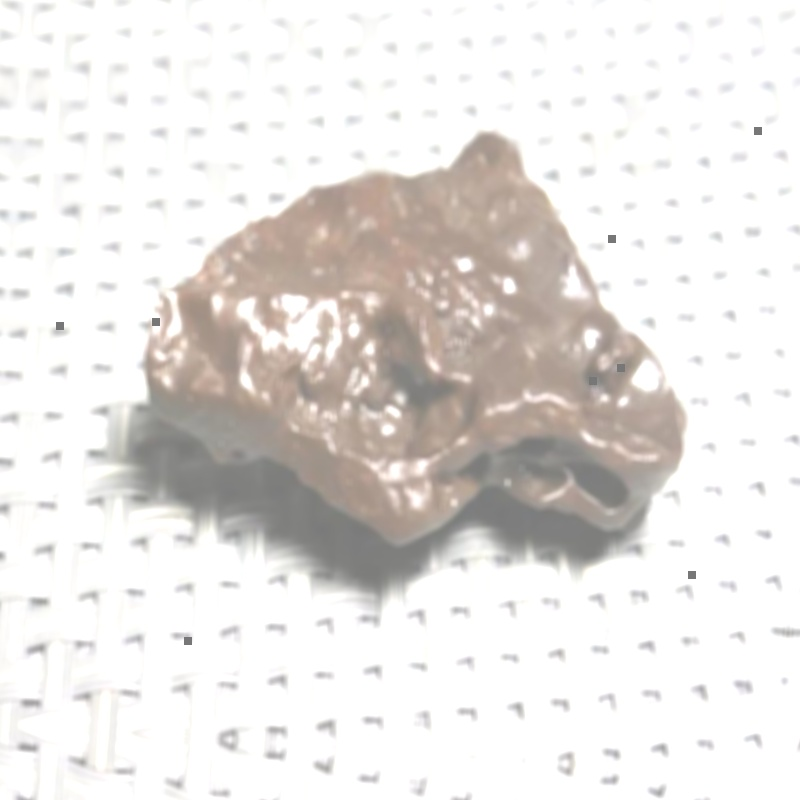halobolite: (117, 100, 719, 580)
